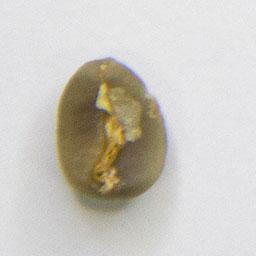premium: (52, 52, 172, 204)
